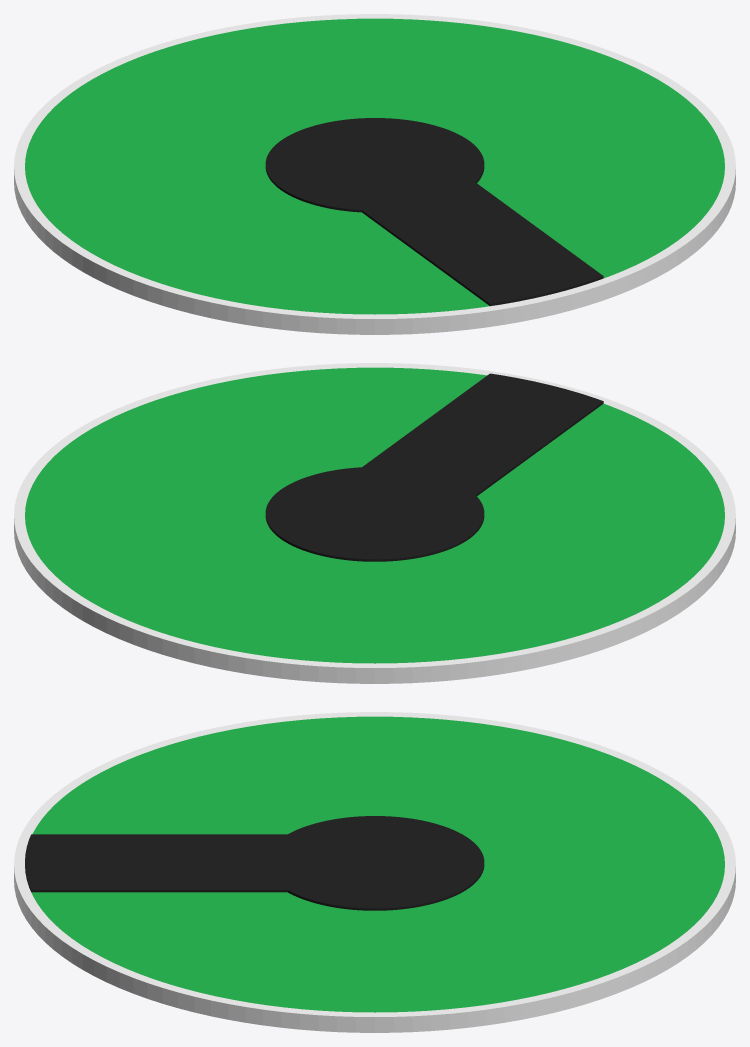
File: culdesac.gltf
3 views of the same model, one above another, from view 1: azimuth 30°, elevation 25°; view 2: azimuth 150°, elevation 25°; view 3: azimuth 270°, elevation 25° (orthographic).
Size of the model in its own units: 8.25 by 0.23 by 8.25.
